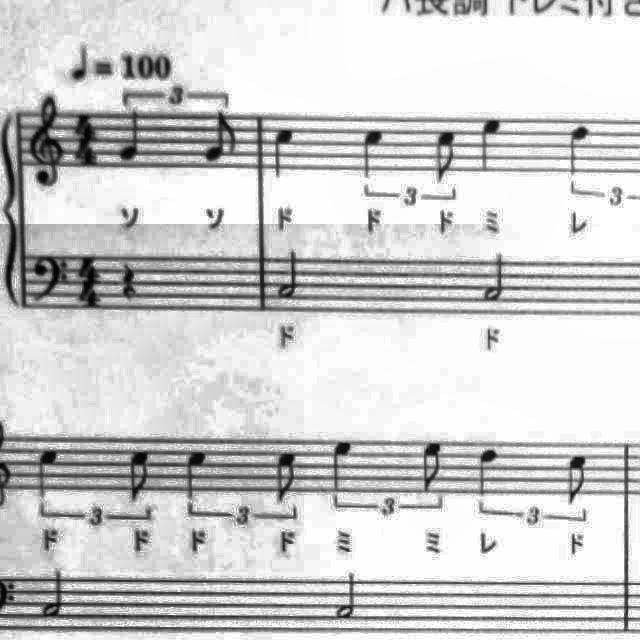Bass-clef: (28, 252, 76, 308)
Eighth-note: (428, 122, 466, 190), (200, 108, 242, 168), (414, 434, 451, 498), (122, 442, 158, 506), (558, 449, 594, 511), (270, 448, 302, 508)
Half-note: (478, 248, 514, 306), (331, 567, 367, 625), (37, 566, 74, 622), (273, 245, 307, 305)
Quarter-note: (324, 433, 362, 501), (473, 110, 511, 178), (559, 118, 597, 180), (266, 120, 302, 183), (30, 441, 66, 504), (470, 440, 506, 500), (177, 446, 213, 506), (356, 120, 390, 183), (115, 106, 149, 166)
Quarter-rest: (115, 256, 146, 308)
Treble-clef: (21, 90, 67, 190)
